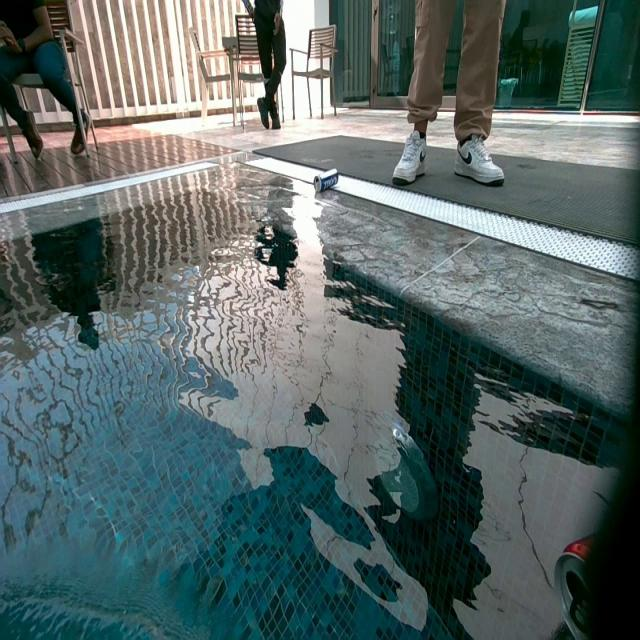Cans: (314, 169, 340, 192)
